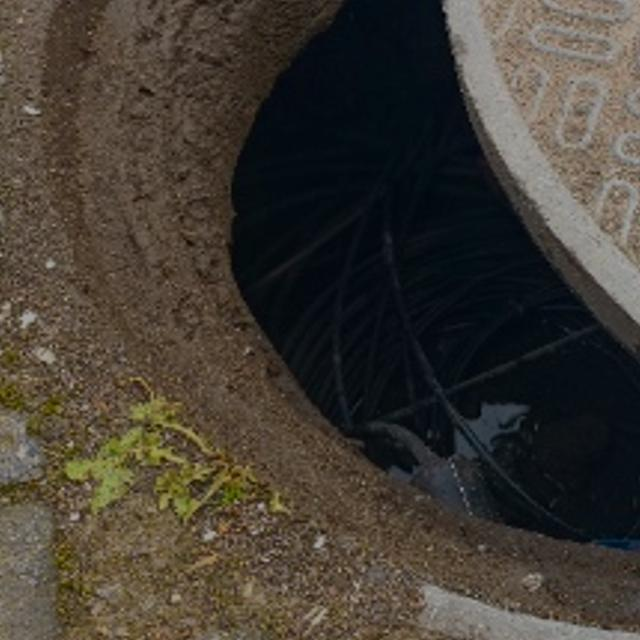uncovered: (36, 0, 640, 640)
